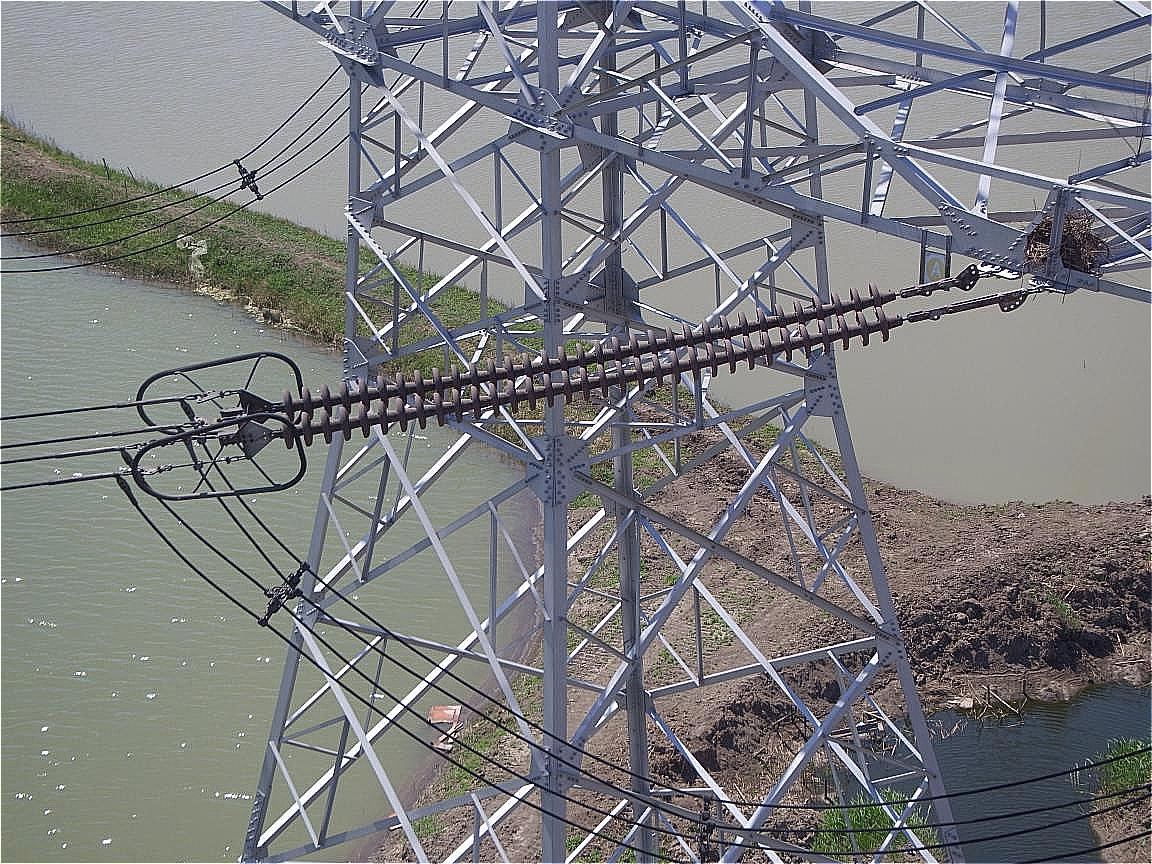insultor1: (259, 277, 907, 442)
